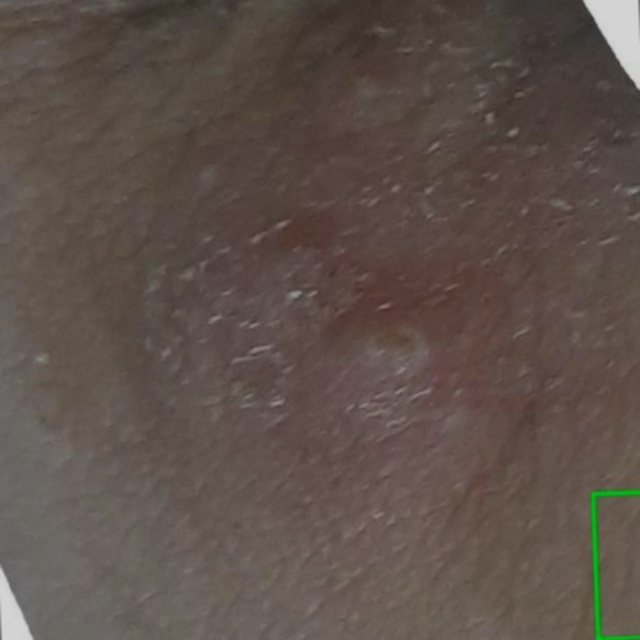Scabies: (592, 492, 639, 639)
